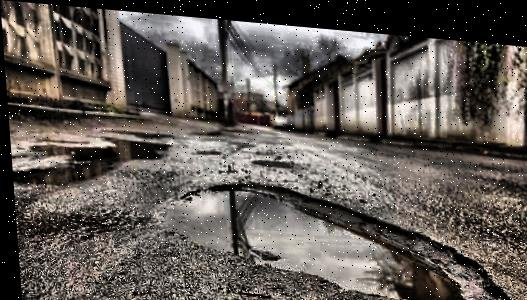pothole: (147, 169, 506, 300)
